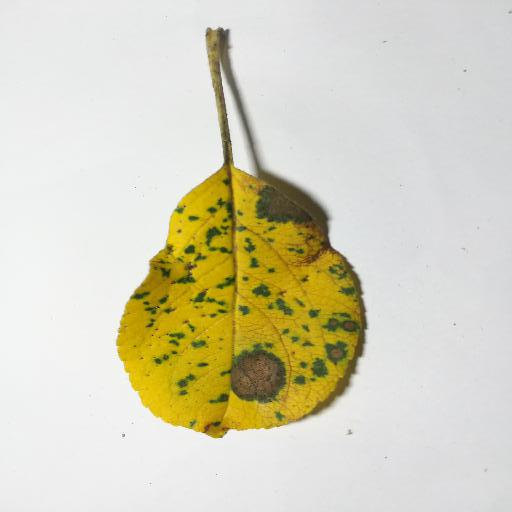Brown_Spot: (223, 350, 283, 397), (250, 189, 316, 226), (290, 236, 335, 269), (323, 321, 359, 330), (331, 347, 345, 359)
